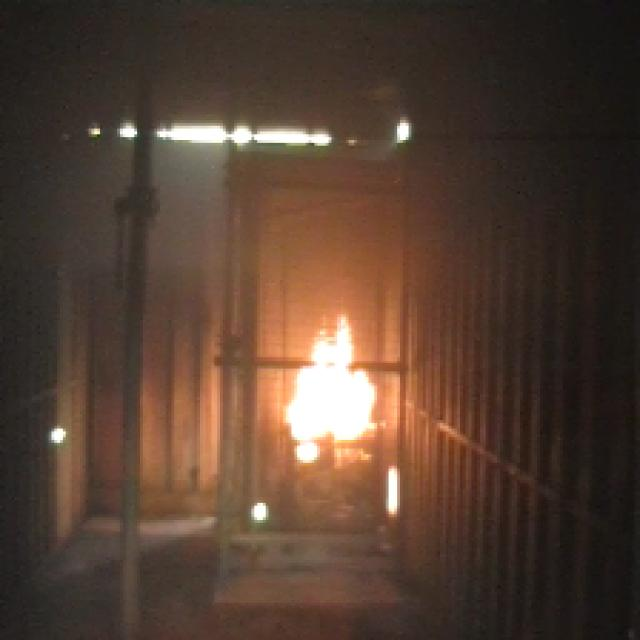fire: (282, 306, 373, 471)
